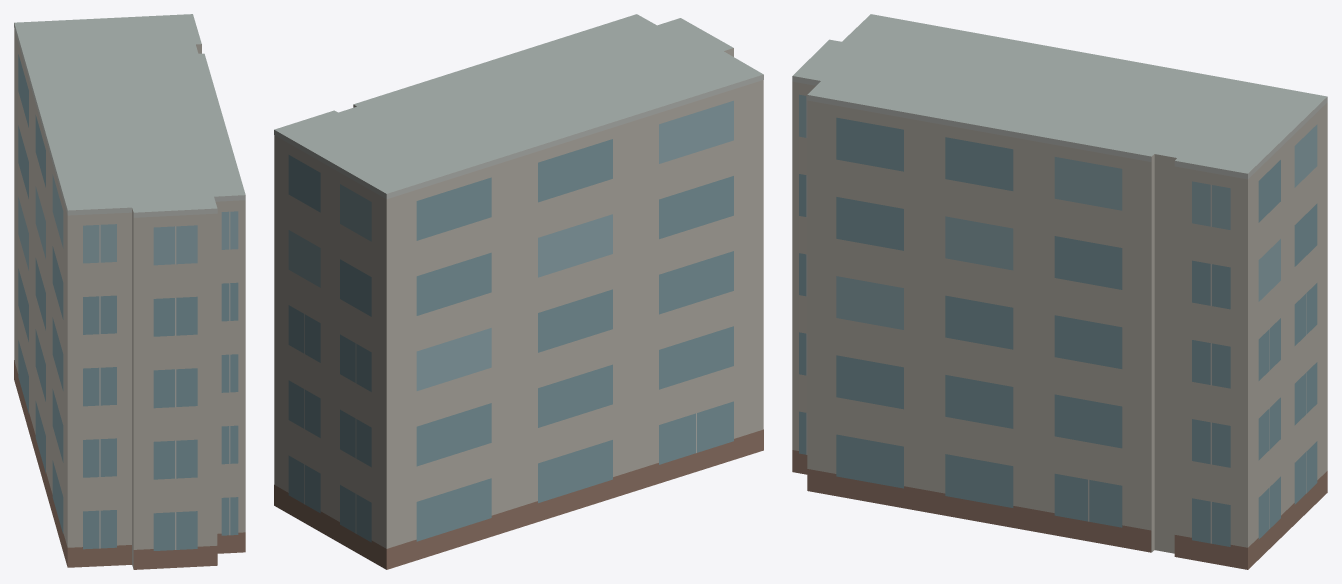
The model's file is survey-upis-32534153.glb.
3 renders of one model, left to right at view 1: azimuth 30°, elevation 25°; view 2: azimuth 150°, elevation 25°; view 3: azimuth 270°, elevation 25°, orthographic. The views are drawn at different scales.
Visible parts, largest first — view 1: survey-upis-32534153.tmp; view 2: survey-upis-32534153.tmp; view 3: survey-upis-32534153.tmp.
Boxes of the visible parts, x1,y1,x2,y2 form: survey-upis-32534153.tmp: (14,14,245,569); survey-upis-32534153.tmp: (274,14,763,569); survey-upis-32534153.tmp: (792,14,1327,569).
Size of the model in its own units: 14.8 by 17.1 by 20.95.
